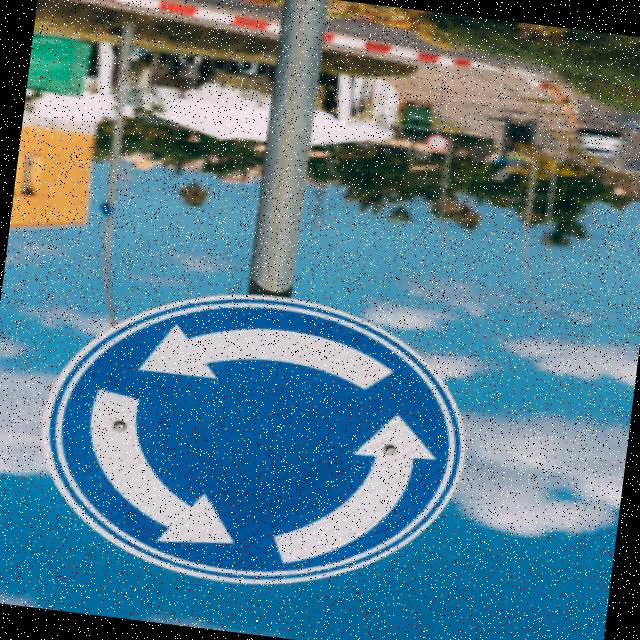round_about: (19, 262, 487, 615)
